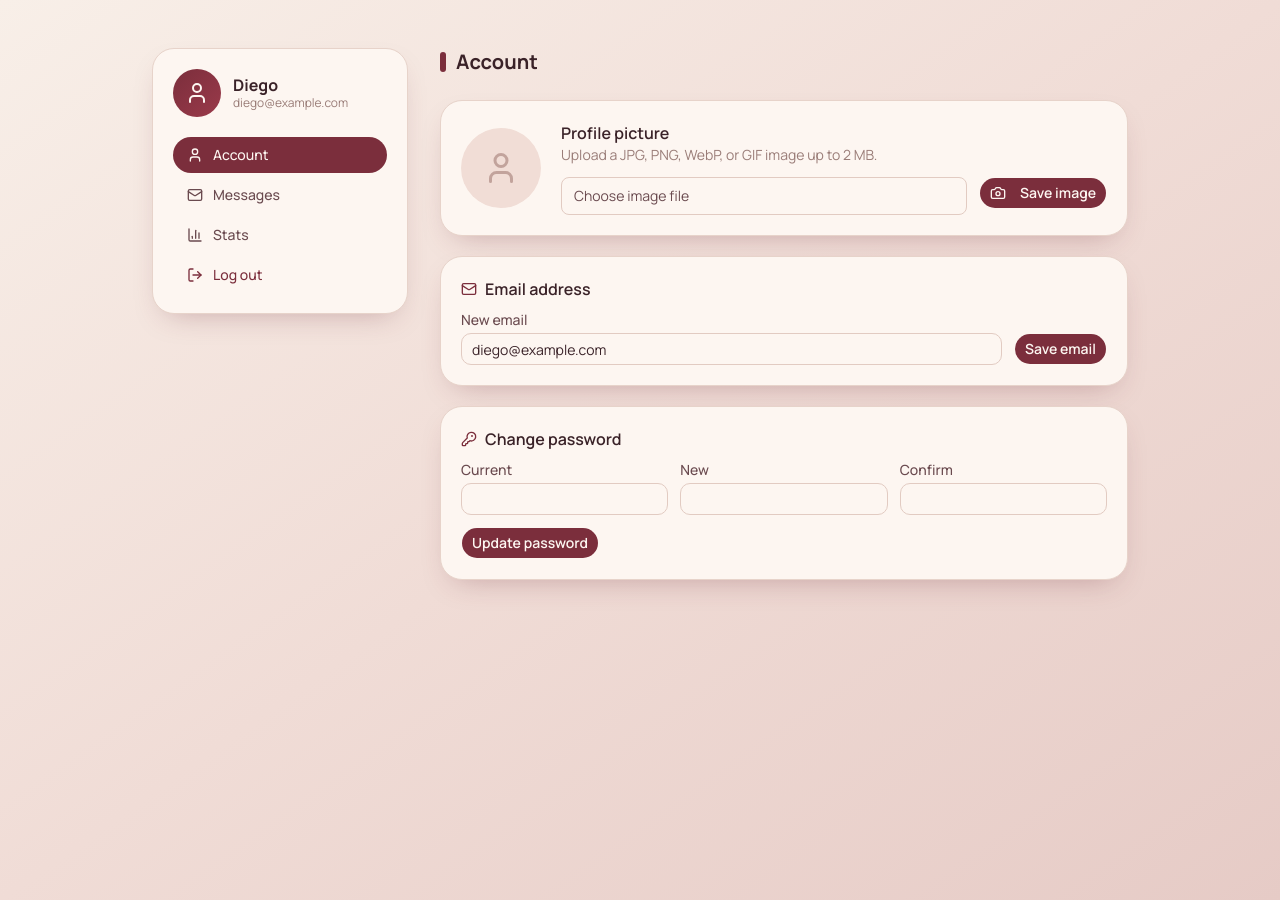
it: AccountPage › sent messages only show sent state and submission date
Click the button "Messages" at coordinates (280, 195), box left=173, top=177, right=387, bottom=213
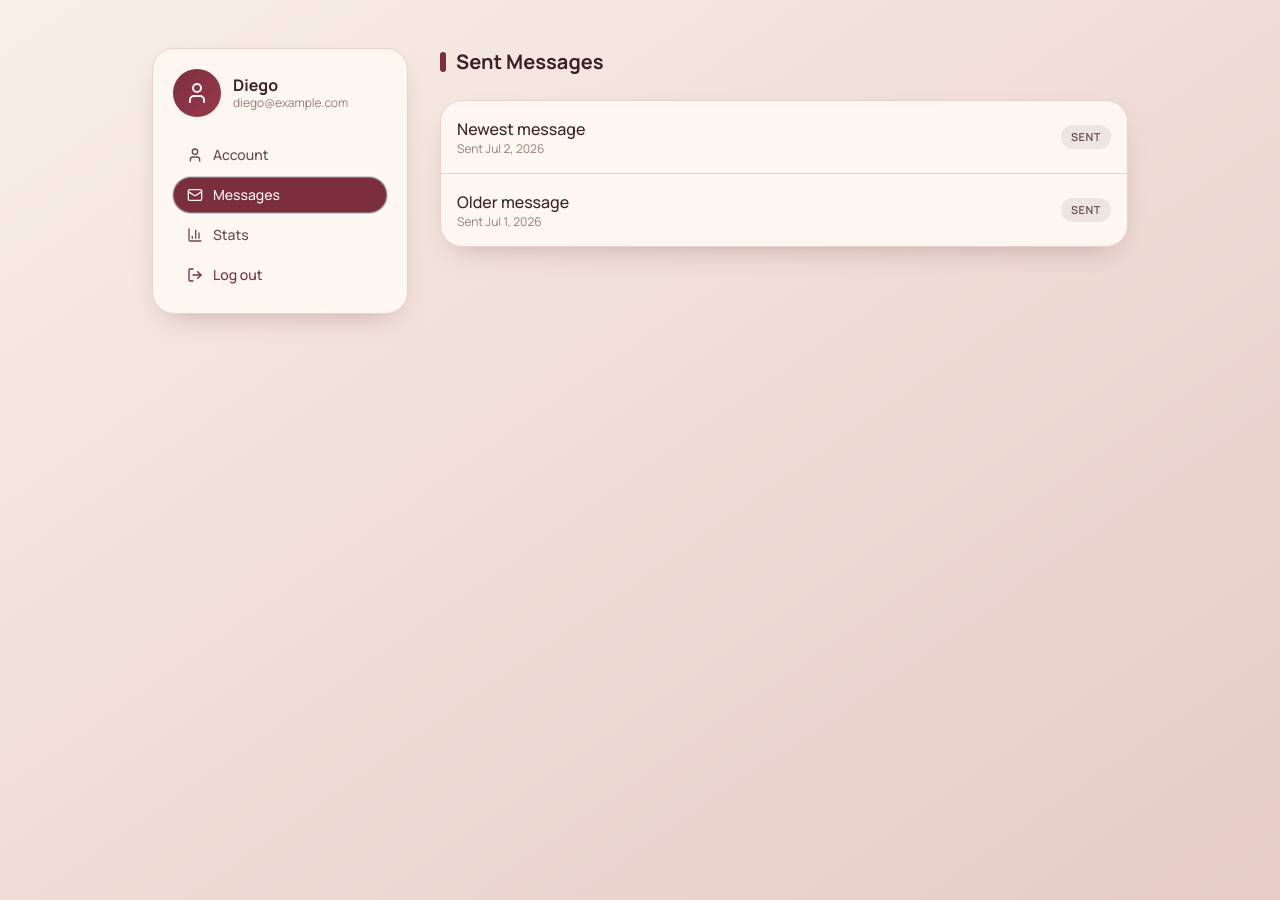
Expected: the text "Newest message" is shown, left=457, top=117, right=585, bottom=141
Expected: the text "Older message" is shown, left=457, top=190, right=569, bottom=214
Expected: the text "Sent" is shown 2 times, left=1061, top=125, right=1111, bottom=149; left=1061, top=198, right=1111, bottom=222
